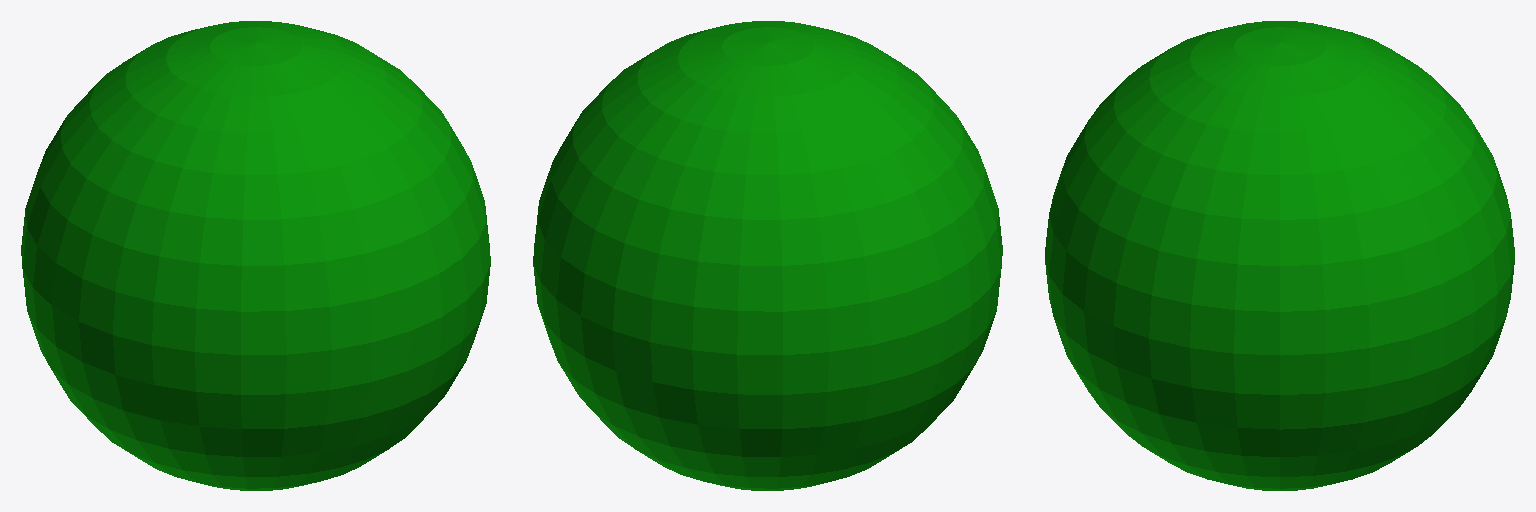
File: player2.obj
3 views of the same model, side by side, from view 1: azimuth 30°, elevation 25°; view 2: azimuth 150°, elevation 25°; view 3: azimuth 270°, elevation 25° (orthographic).
Parts seen in each view (by area): view 1: Sphere; view 2: Sphere; view 3: Sphere.
Part boxes in pixels (bbox=[...]): Sphere: bbox=[21, 21, 490, 490]; Sphere: bbox=[533, 21, 1002, 490]; Sphere: bbox=[1045, 21, 1514, 490].
Size of the model in its own units: 0.5 by 0.5 by 0.5.